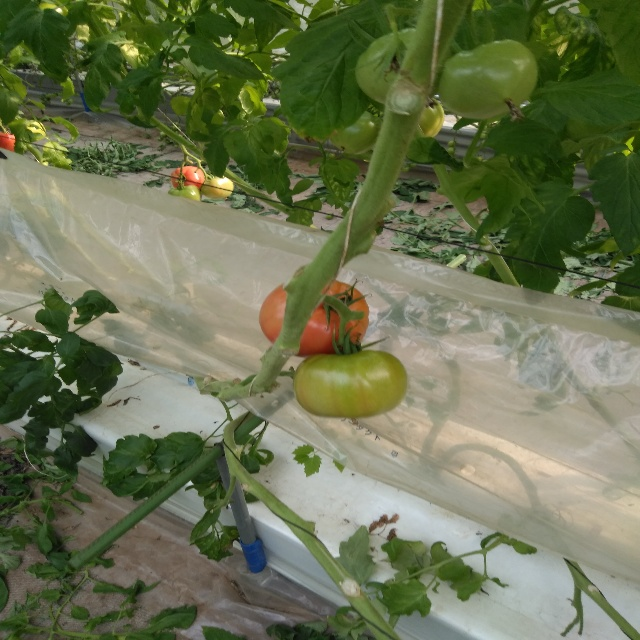b_fully_ripened: (170, 166, 205, 189)
b_green: (437, 39, 538, 120), (293, 350, 407, 418), (354, 28, 451, 107), (330, 111, 383, 154), (418, 96, 446, 137), (167, 185, 202, 201)
b_half_ripened: (259, 277, 369, 359), (200, 175, 233, 200)
